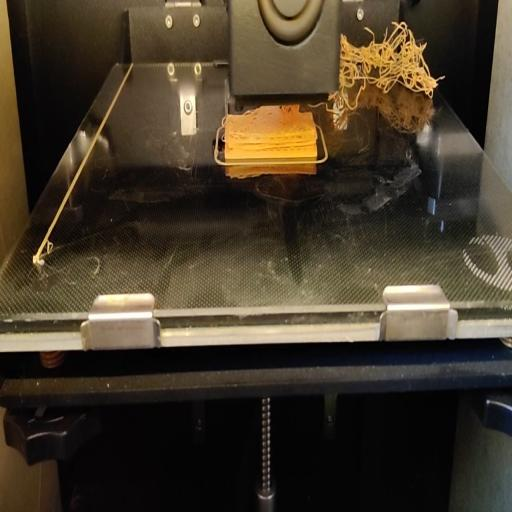spaghetti: (338, 21, 444, 108)
